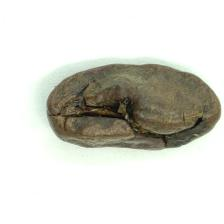NG: (67, 74, 206, 146)
